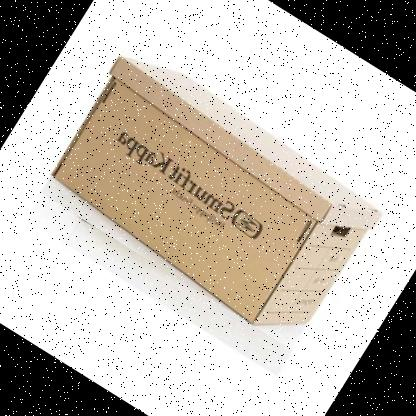box: (50, 55, 381, 326)
normal_hole: (332, 223, 351, 238)
